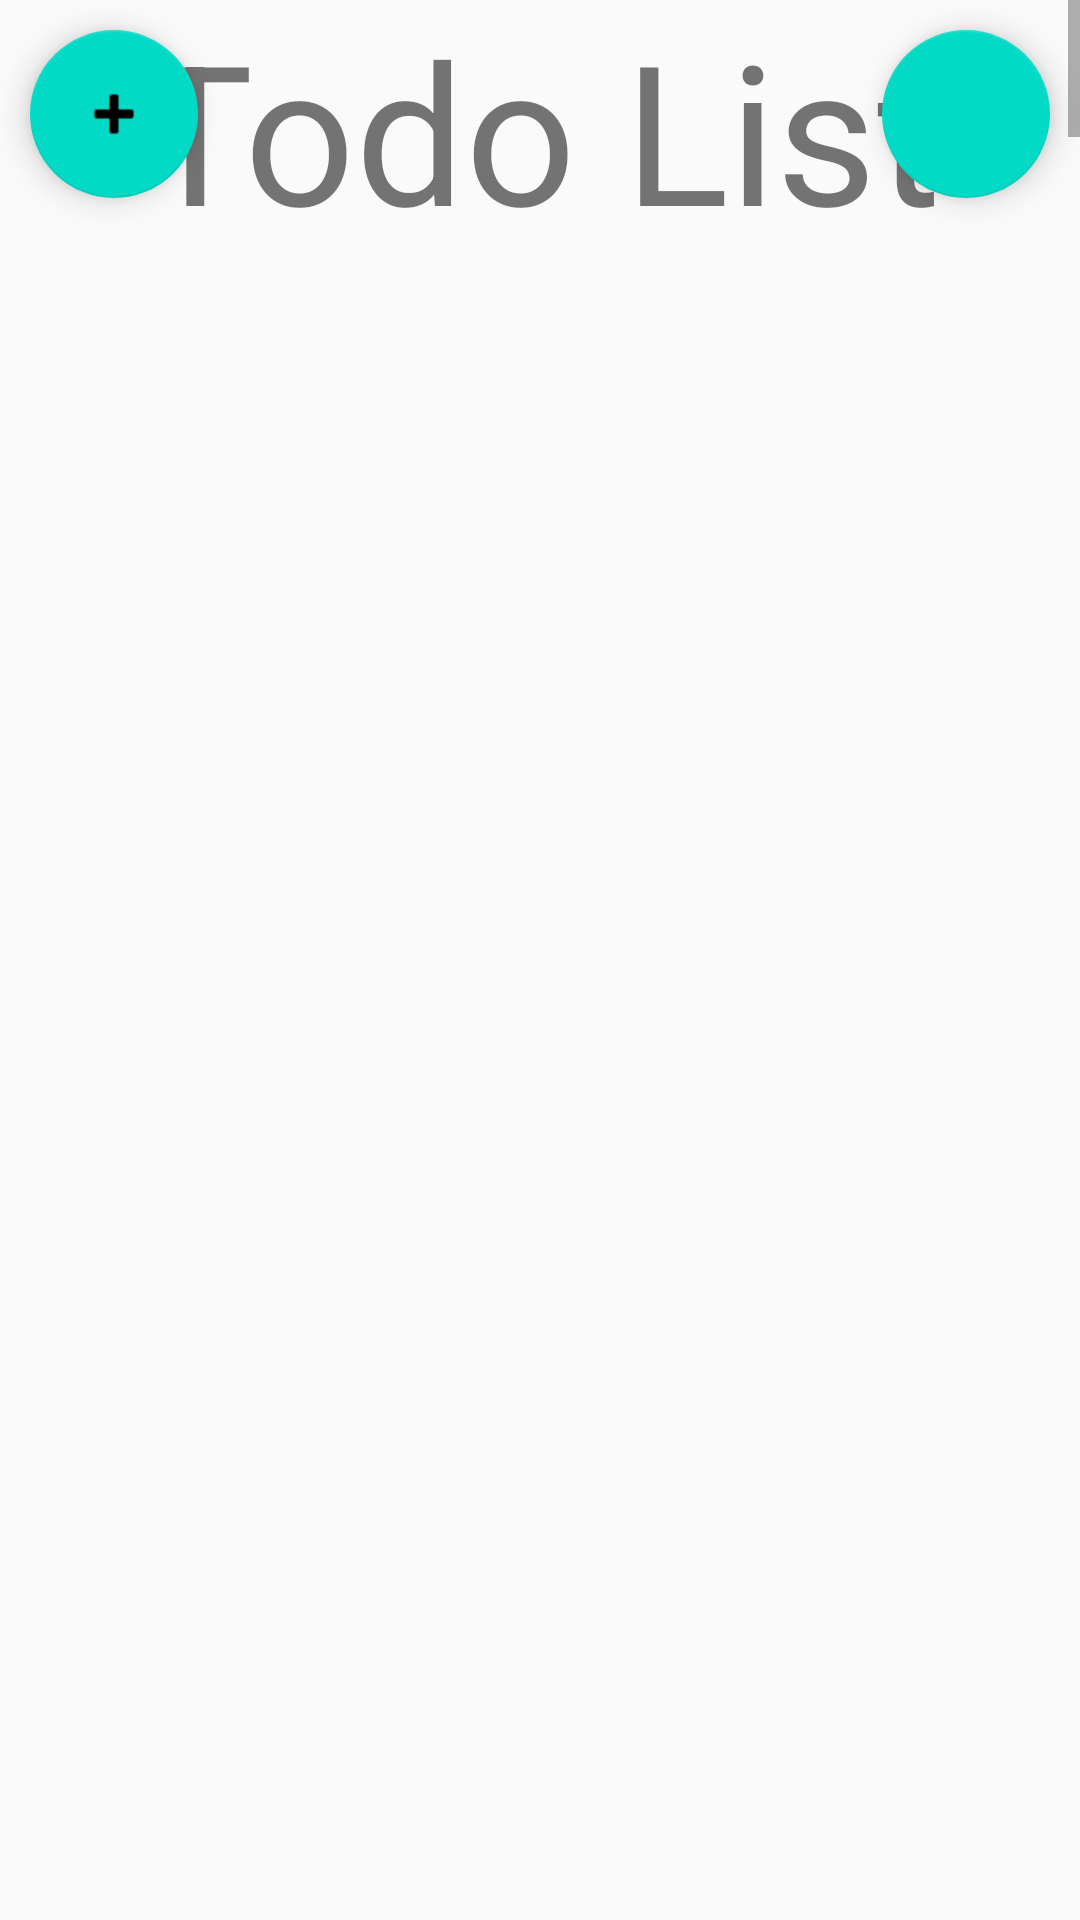

Locate icon controls on the screen. Image size 1080*1920, boxes as box=[x1, y1, x2, y2].
add: box=[30, 30, 198, 198]
